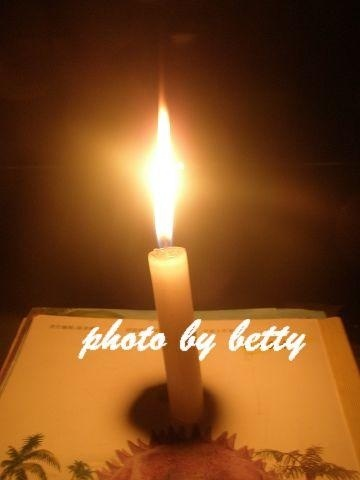fire: (141, 94, 186, 244)
